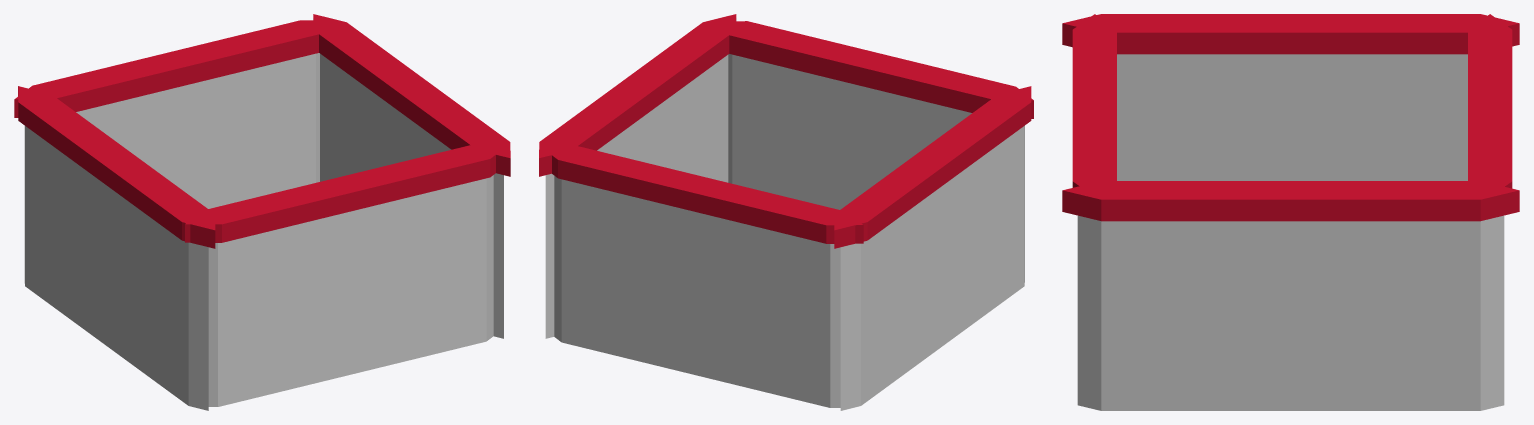
The model's file is cooler.fbx.
3 views of the same model, side by side, from view 1: azimuth 30°, elevation 25°; view 2: azimuth 150°, elevation 25°; view 3: azimuth 270°, elevation 25° (orthographic). The views are drawn at different scales.
Visible parts, largest first — view 1: mergedBlocks; view 2: mergedBlocks; view 3: mergedBlocks.
Part boxes in pixels (x1,y1,x2,y2): mergedBlocks: [14, 14, 510, 410]; mergedBlocks: [539, 14, 1033, 410]; mergedBlocks: [1062, 14, 1519, 410].
Size of the model in its own units: 12.23 by 6.6 by 12.72.
